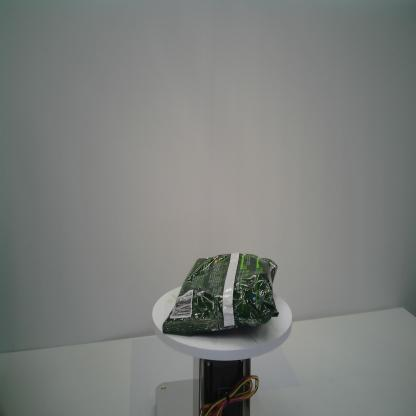Instant Noodles: (160, 249, 279, 336)
